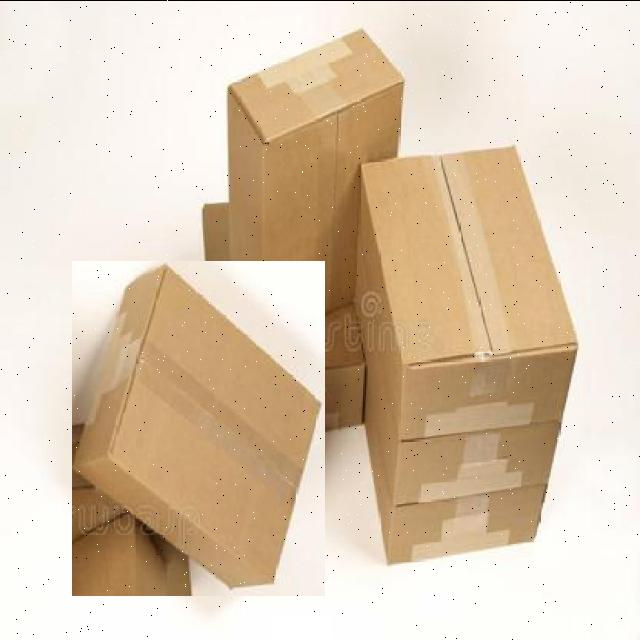normal: (72, 260, 325, 595), (351, 148, 583, 438)
